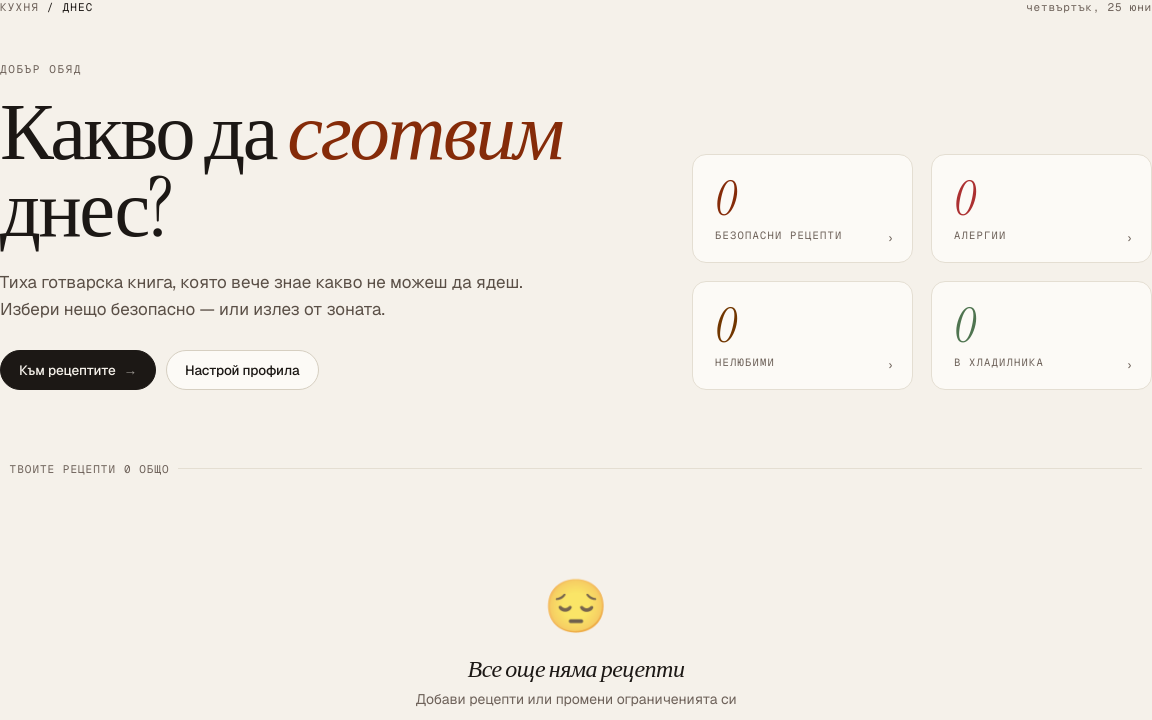
HomeScreen – stat card modals › opens fridge modal when fridge stat is clicked
This screenshot has width=1152, height=720.
Click the text "в хладилника" at (999, 362), box [954,355,1044,369]
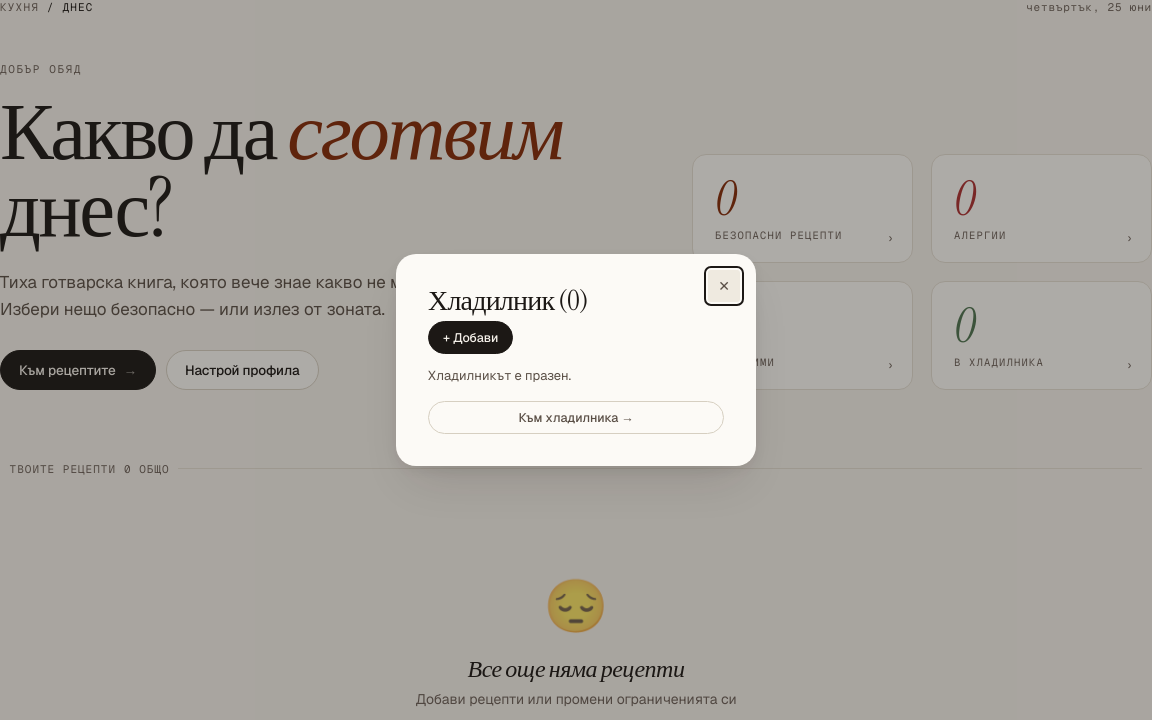
Expected: the text "Хладилник (0)" is shown, [428,282,588,318]
